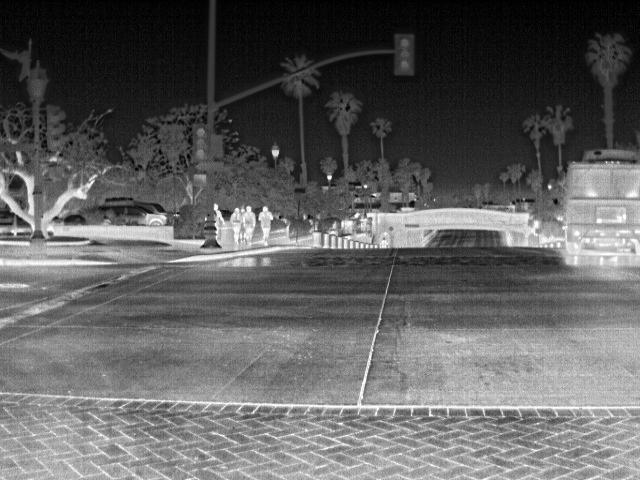car: (100, 203, 171, 225), (134, 200, 170, 216)
person: (257, 205, 275, 246), (240, 206, 256, 248), (230, 206, 242, 253), (212, 204, 226, 240)
